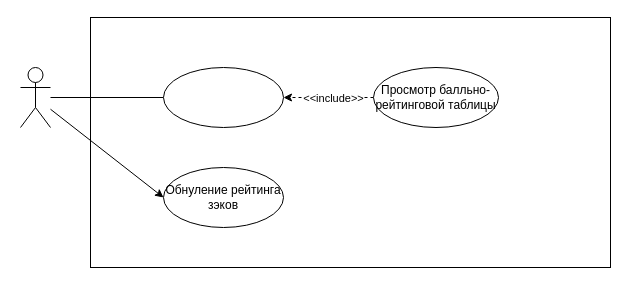
The diagram is 628 pixels wide and 285 high, and some of its shapes have lost their labels. The centre of each missing label's shape, as x and y in pixels:
Время: (35,97)
Перераспределение зэков по этажам: (223,97)
